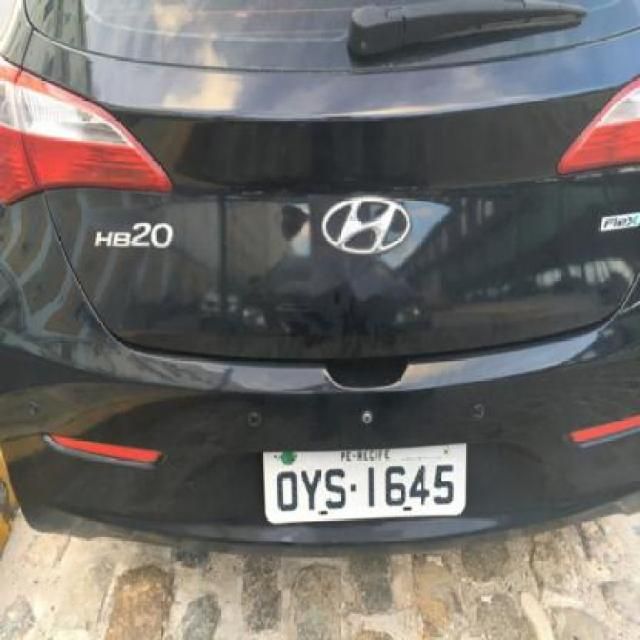old_plate: (258, 431, 471, 533)
